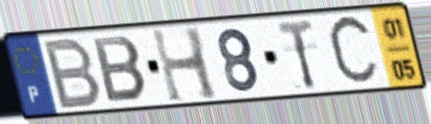8: (216, 25, 262, 95)
B: (41, 35, 104, 112), (89, 34, 151, 105)
C: (324, 11, 382, 91)
H: (148, 25, 223, 106)
T: (274, 16, 319, 93)
